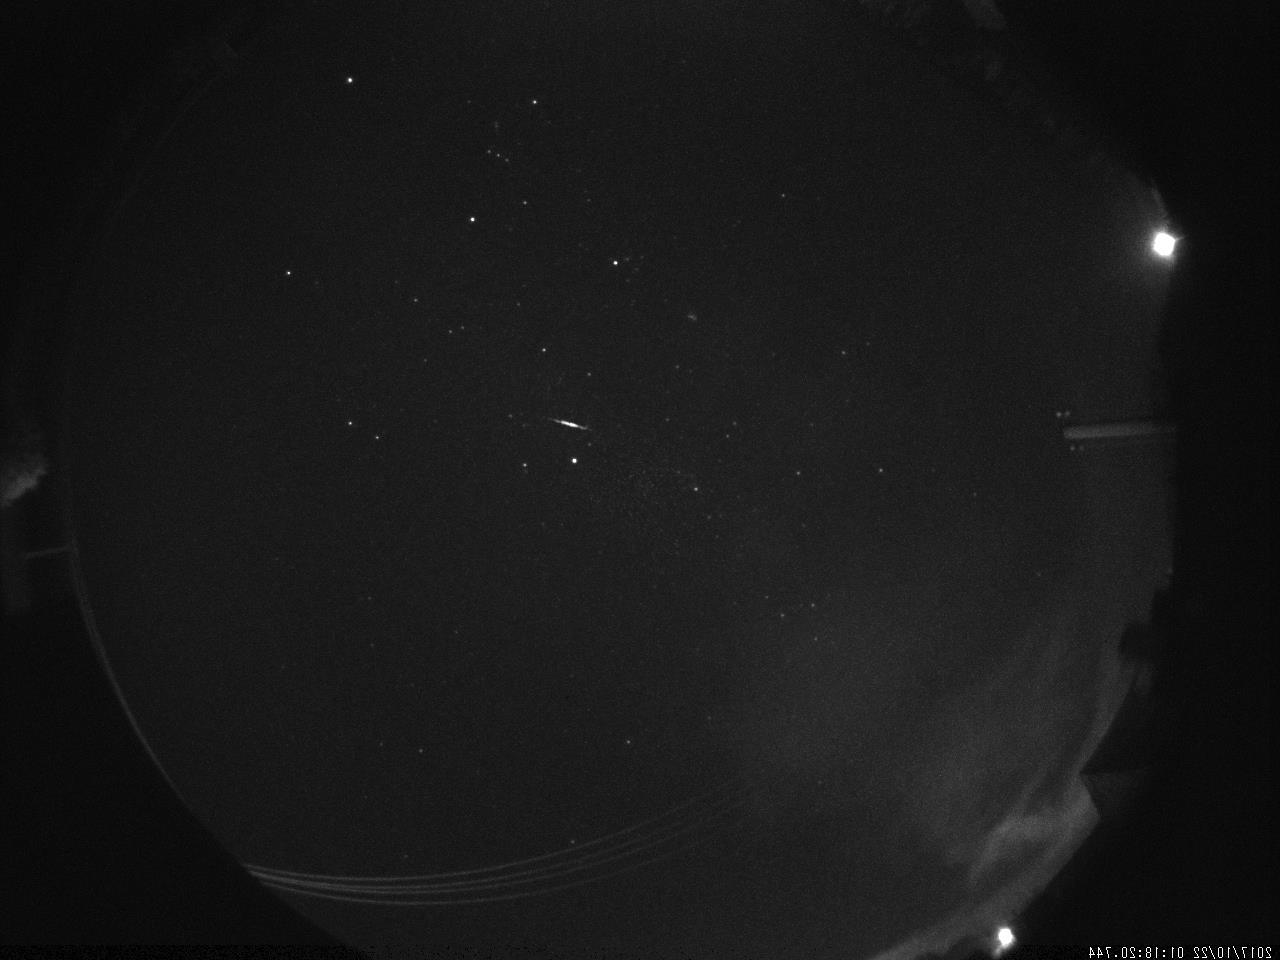meteor: (530, 409, 602, 441)
